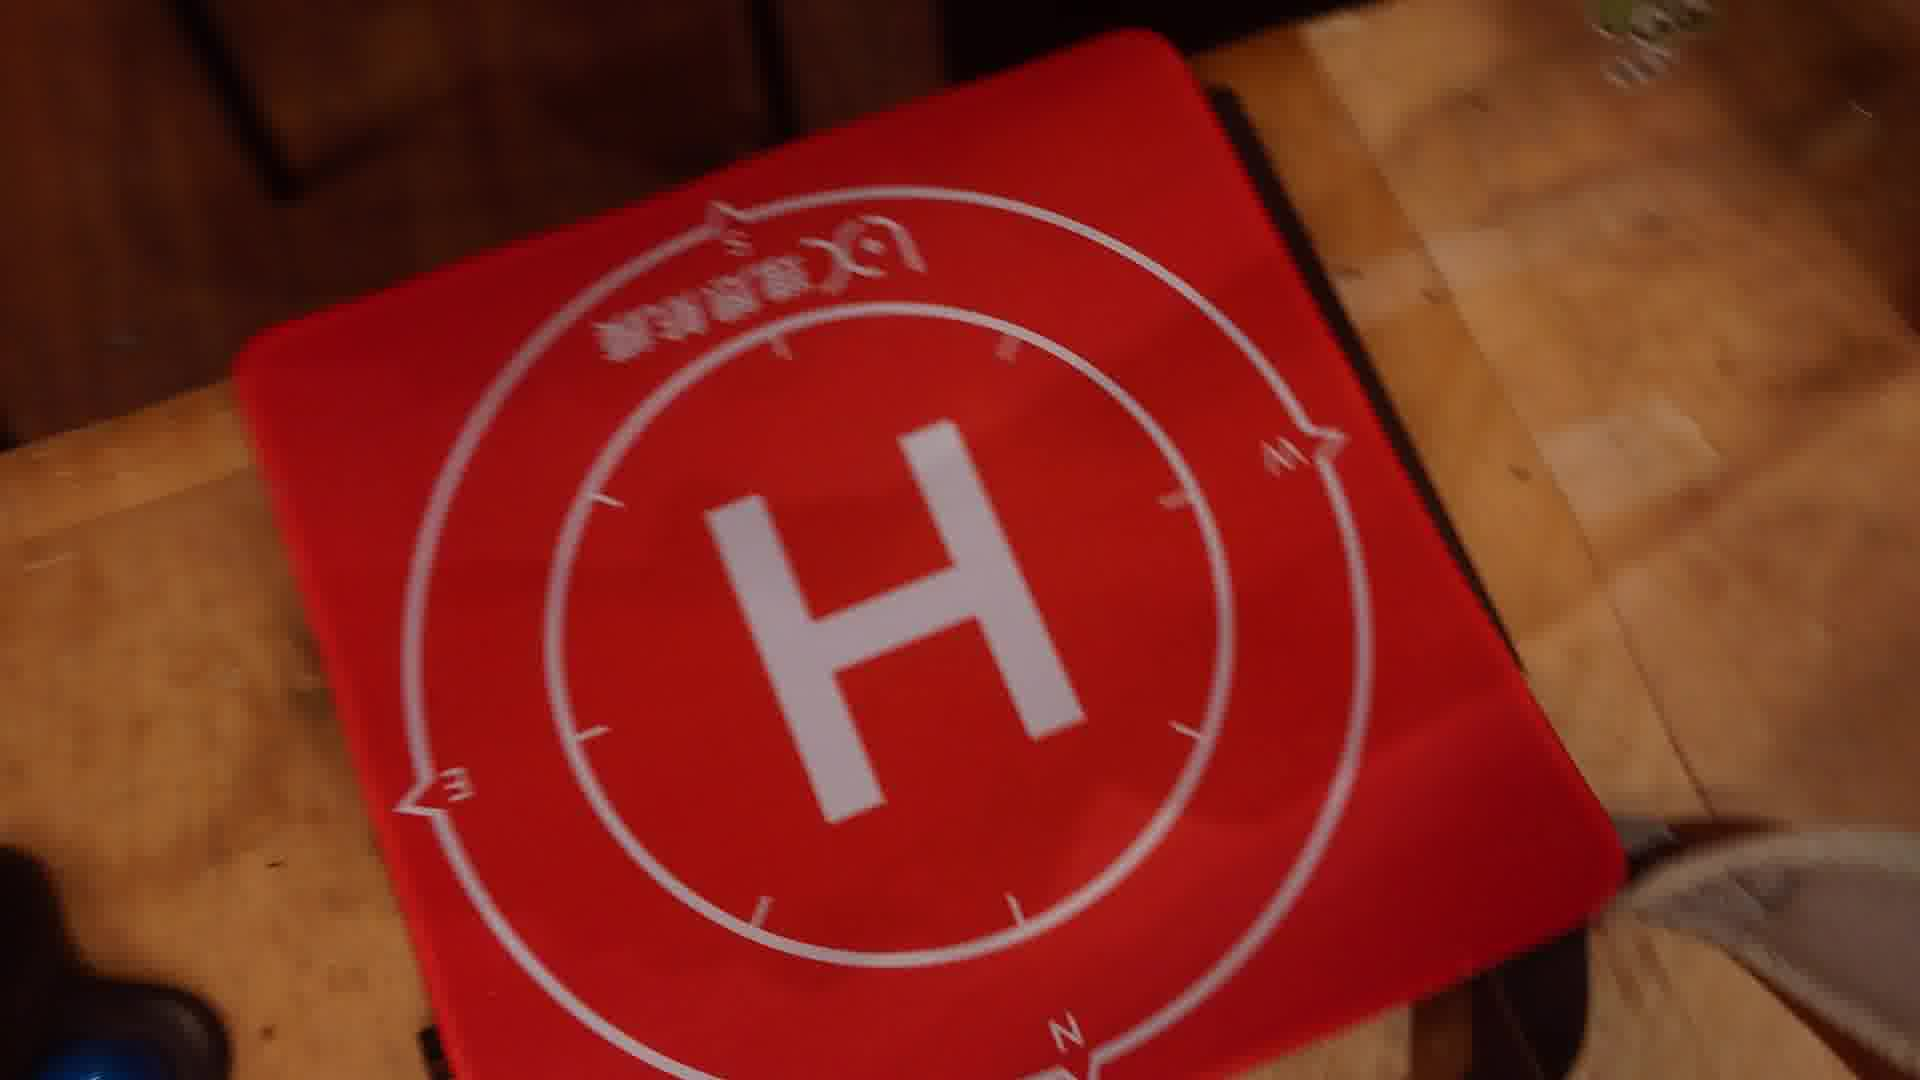H: (702, 418, 1091, 825)
